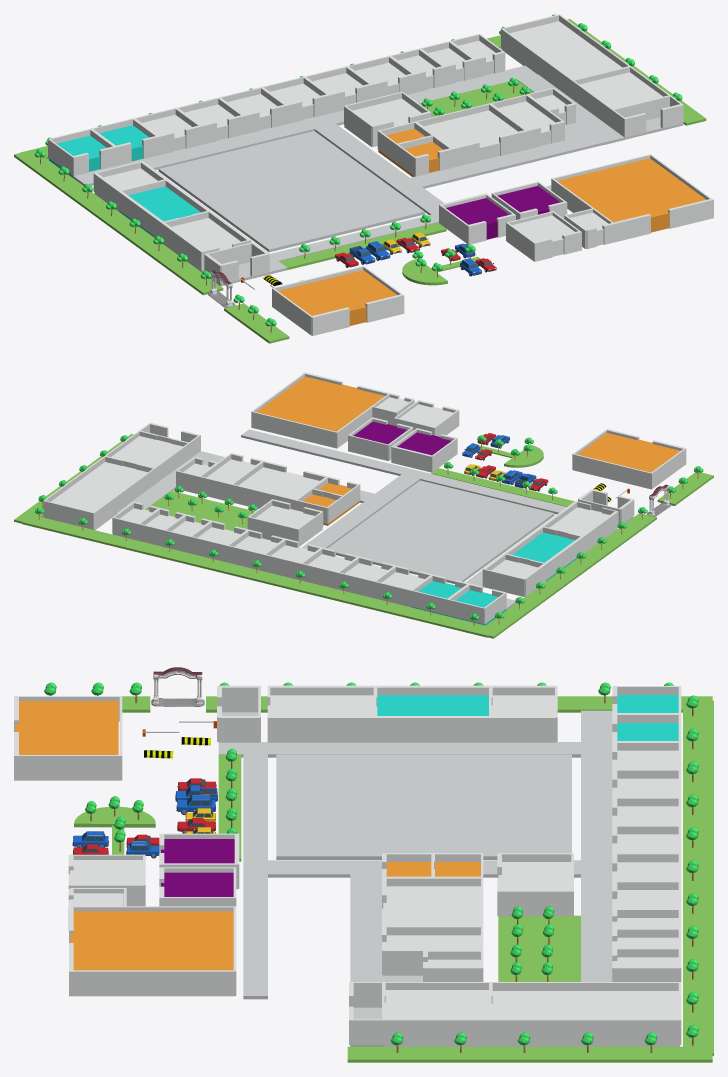
The model's file is level-1.glb.
The picture shows the model from 3 angles, top to bottom: view 1: azimuth 30°, elevation 25°; view 2: azimuth 150°, elevation 25°; view 3: azimuth 270°, elevation 25°; orthographic projection. The views are drawn at different scales.
Parts seen in each view (by area): view 1: Plane, Canteen | floor.002, E corridor, Computer 02 | floor.001, Canteen | floor.001, Design & TechnologyWorkshop 01 | floor, B south corridor, B west link, Art Room | floor, Wood MachineWorkshop | floor, A north link, Design & TechnologyWorkshop 01 | wall W (+48 smaller); view 2: Plane, Computer 02 | floor.002, Canteen | floor.002, A north link, Computer 02 | floor.001, Design & TechnologyWorkshop 01 | floor, Canteen | floor.001, B west link, Computer 02 | floor.011, Art Room | floor, Canteen | wall N.001, Wood MachineWorkshop | floor (+49 smaller); view 3: Plane, Canteen | floor.002, Computer 02 | floor.002, E corridor, A north link, Computer 02 | floor.003, Design & TechnologyWorkshop 01 | floor, Canteen | floor.001, Computer 02 | floor.011, F corridor, Design & TechnologyWorkshop 01 | wall E, Food Stalls | wall E (+62 smaller).
Boxes of the visible parts, x1,y1,x2,y2 form: Plane: [158, 131, 424, 252]; Canteen | floor.002: [557, 158, 706, 232]; E corridor: [73, 65, 537, 185]; Computer 02 | floor.001: [14, 149, 223, 295]; Canteen | floor.001: [278, 270, 397, 325]; Design & TechnologyWorkshop 01 | floor: [501, 21, 621, 79]; B south corridor: [410, 133, 603, 188]; B west link: [314, 124, 444, 214]; Art Room | floor: [424, 110, 517, 160]; Wood MachineWorkshop | floor: [579, 72, 662, 108]; A north link: [269, 185, 551, 261]; Design & TechnologyWorkshop 01 | wall W: [501, 29, 572, 98]; Plane: [327, 480, 554, 583]; Computer 02 | floor.002: [22, 517, 488, 637]; Canteen | floor.002: [256, 376, 384, 431]; A north link: [241, 429, 566, 514]; Computer 02 | floor.001: [476, 513, 656, 638]; Design & TechnologyWorkshop 01 | floor: [43, 462, 147, 529]; Canteen | floor.001: [577, 433, 680, 472]; B west link: [301, 474, 419, 549]; Computer 02 | floor.011: [145, 491, 254, 531]; Art Room | floor: [233, 467, 319, 508]; Canteen | wall N.001: [573, 454, 651, 489]; Wood MachineWorkshop | floor: [111, 436, 182, 467]; Plane: [276, 754, 571, 859]; Canteen | floor.002: [70, 911, 233, 970]; Computer 02 | floor.002: [683, 700, 713, 1055]; E corridor: [581, 710, 612, 981]; A north link: [243, 752, 267, 999]; Computer 02 | floor.003: [347, 1046, 712, 1062]; Design & TechnologyWorkshop 01 | floor: [490, 991, 679, 1046]; Canteen | floor.001: [15, 701, 118, 754]; Computer 02 | floor.011: [498, 915, 580, 981]; F corridor: [218, 742, 580, 757]; Design & TechnologyWorkshop 01 | wall E: [490, 1019, 679, 1044]; Food Stalls | wall E: [70, 970, 234, 996].
Size of the model in its own units: 104 by 4.89 by 84.98.
69 materials, 1 textured.
